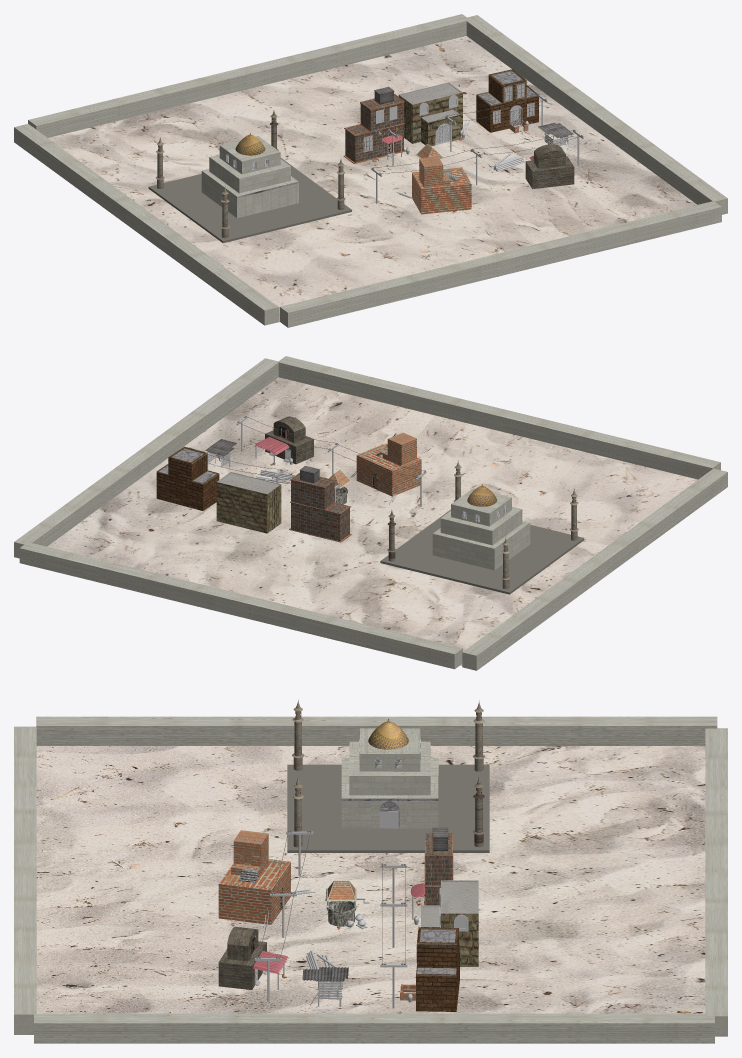
Rendered from arab6.obj.
3 renders of one model, top to bottom at view 1: azimuth 30°, elevation 25°; view 2: azimuth 150°, elevation 25°; view 3: azimuth 270°, elevation 25°, orthographic. The views are drawn at different scales.
Parts seen in each view (by area): view 1: Plane_Plane.007, Cube, Cube.001, Cube.002_Cube.003, Cube.004_Cube.005, Plane.003, Cube.009_Cube.007, Cube.003_Cube.004, house.001, Cube.013_Cube.014, Cube.016_Cube.017, Cube.019_Cube.020 (+1 smaller); view 2: Plane_Plane.007, Cube.001, Cube, Cube.002_Cube.003, Cube.004_Cube.005, Plane.003, Cube.009_Cube.007, Cube.003_Cube.004, house.001, Cube.013_Cube.014, Cube.016_Cube.017, Cube.019_Cube.020 (+1 smaller); view 3: Plane_Plane.007, Cube.004_Cube.005, Cube.002_Cube.003, Plane.003, Cube.009_Cube.007, Cube, Cube.001, Cube.013_Cube.014, Cube.016_Cube.017, Cube.003_Cube.004, Cube.019_Cube.020, house.001 (+7 smaller).
Part boxes in pixels (x1,y1,x2,y2): Plane_Plane.007: [48, 36, 696, 322]; Cube: [279, 201, 721, 327]; Cube.001: [28, 14, 469, 137]; Cube.002_Cube.003: [14, 123, 278, 325]; Cube.004_Cube.005: [466, 15, 727, 214]; Plane.003: [148, 158, 351, 243]; Cube.009_Cube.007: [201, 136, 298, 218]; Cube.003_Cube.004: [398, 82, 462, 146]; house.001: [343, 93, 405, 163]; Cube.013_Cube.014: [476, 69, 538, 132]; Cube.016_Cube.017: [412, 167, 471, 214]; Cube.019_Cube.020: [525, 144, 574, 189]; Plane_Plane.007: [47, 377, 697, 665]; Cube.001: [19, 542, 462, 669]; Cube: [278, 356, 720, 479]; Cube.002_Cube.003: [462, 468, 727, 670]; Cube.004_Cube.005: [14, 358, 278, 558]; Plane.003: [380, 509, 584, 594]; Cube.009_Cube.007: [432, 488, 530, 570]; Cube.003_Cube.004: [216, 472, 281, 533]; house.001: [289, 472, 351, 542]; Cube.013_Cube.014: [156, 446, 219, 510]; Cube.016_Cube.017: [356, 443, 421, 496]; Cube.019_Cube.020: [265, 416, 313, 464]; Plane_Plane.007: [36, 746, 705, 1013]; Cube.004_Cube.005: [34, 1013, 714, 1043]; Cube.002_Cube.003: [36, 716, 717, 745]; Plane.003: [287, 764, 489, 852]; Cube.009_Cube.007: [341, 728, 438, 828]; Cube: [14, 726, 36, 1034]; Cube.001: [705, 728, 727, 1036]; Cube.013_Cube.014: [416, 927, 459, 1011]; Cube.016_Cube.017: [218, 859, 290, 924]; Cube.003_Cube.004: [421, 880, 478, 966]; Cube.019_Cube.020: [218, 926, 266, 989]; house.001: [424, 833, 453, 924].
Bounding box in the file's own units: 53.28 × 7.72 × 52.41.
